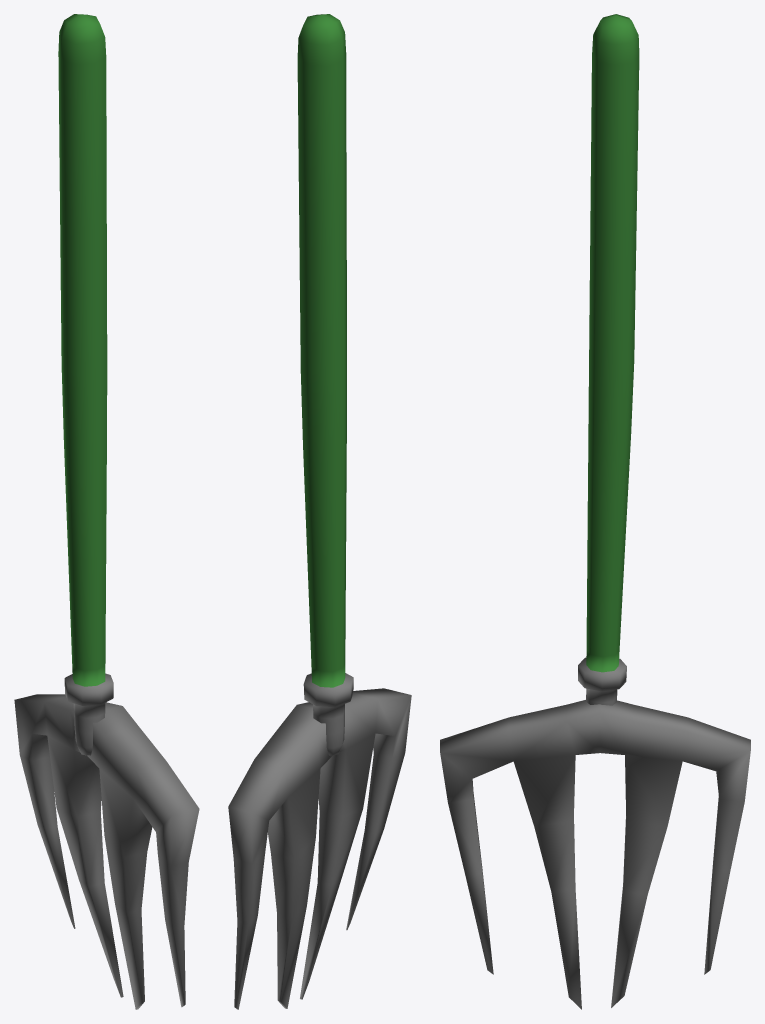
The model's file is Pitchfork_low.fbx.
3 renders of one model, left to right at view 1: azimuth 30°, elevation 25°; view 2: azimuth 150°, elevation 25°; view 3: azimuth 270°, elevation 25°, orthographic. The views are drawn at different scales.
Visible parts, largest first — view 1: Palov2, Tridentev2; view 2: Palov2, Tridentev2; view 3: Tridentev2, Palov2.
Part boxes in pixels (<box>): Palov2: <box>58,14,113,755</box>; Tridentev2: <box>14,694,199,1009</box>; Palov2: <box>297,14,353,755</box>; Tridentev2: <box>228,688,411,1009</box>; Tridentev2: <box>440,700,750,1009</box>; Palov2: <box>578,14,639,705</box>.
Bounding box in the file's own units: 0.1356 × 2.12 × 0.6128.
